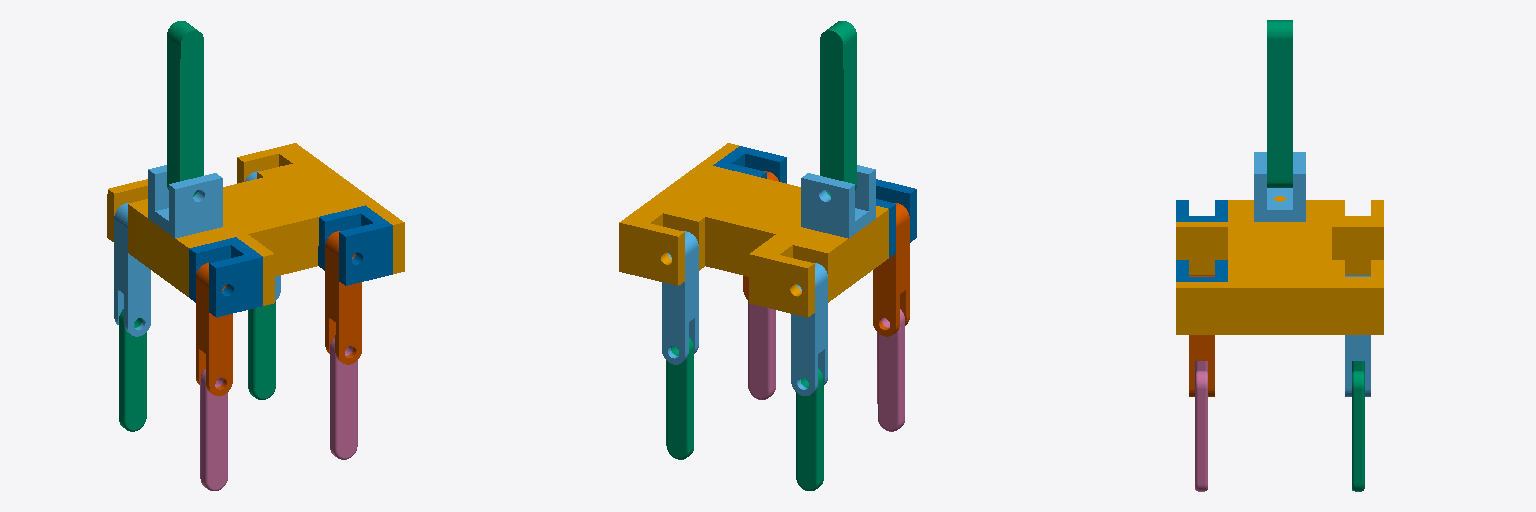
--- Facts derived from the render (not from the file) ---
Views: 3 orthographic renders of the robot side by side, from view 1: azimuth 30°, elevation 25°; view 2: azimuth 150°, elevation 25°; view 3: azimuth 270°, elevation 25°.
Robot: quadruped — 20 links, 19 joints (14 revolute, 5 fixed); root link body; default pose: all joints at 0.
Visible links, largest first — view 1: body, tail, coxa_br, coxa_fr, tailbase, femur_fr, femur_br, femur_bl, tibia_br, tibia_fr, tibia_bl, tibia_fl (+2 smaller); view 2: body, tail, coxa_bl, coxa_fl, tailbase, femur_fl, femur_bl, femur_br, tibia_bl, tibia_fl, tibia_br, tibia_fr (+2 smaller); view 3: body, tail, tailbase, tibia_fr, tibia_fl, femur_fr, femur_fl, coxa_br, coxa_bl, coxa_fr, coxa_fl.
Boxes of the visible links, box(x1,y1,x2,y2) form: body: box(135, 143, 404, 305); tail: box(167, 21, 203, 196); coxa_br: box(189, 237, 262, 317); coxa_fr: box(318, 205, 392, 285); tailbase: box(148, 165, 222, 238); femur_fr: box(325, 231, 361, 364); femur_br: box(196, 263, 232, 395); femur_bl: box(114, 203, 150, 336); tibia_br: box(200, 369, 227, 490); tibia_fr: box(330, 337, 357, 459); tibia_bl: box(119, 309, 146, 431); tibia_fl: box(248, 301, 275, 399); body: box(619, 143, 888, 305); tail: box(820, 21, 856, 196); coxa_bl: box(761, 237, 834, 317); coxa_fl: box(631, 206, 704, 285); tailbase: box(801, 165, 875, 238); femur_fl: box(662, 231, 698, 364); femur_bl: box(791, 263, 827, 395); femur_br: box(873, 203, 909, 336); tibia_bl: box(796, 368, 823, 490); tibia_fl: box(666, 337, 693, 459); tibia_br: box(877, 309, 904, 431); tibia_fr: box(748, 301, 775, 399); body: box(1176, 196, 1383, 334); tail: box(1267, 20, 1292, 187); tailbase: box(1254, 152, 1305, 221); tibia_fr: box(1195, 371, 1207, 491); tibia_fl: box(1352, 371, 1364, 491); femur_fr: box(1189, 276, 1214, 396); femur_fl: box(1345, 276, 1370, 396); coxa_br: box(1176, 200, 1227, 221); coxa_bl: box(1332, 200, 1383, 221); coxa_fr: box(1176, 260, 1227, 281); coxa_fl: box(1332, 260, 1383, 281).
Bounding box of the posed robot: 0.4067 × 0.4065 × 0.8889 m (x, y, z).
15 mesh visuals loaded from 6 distinct referenced files (6 Collada DAE).

robot.urdf — quadruped:
<robot name="quadruped">
    <!-- <link name="world" />
    <joint name="base_joint" type="fixed">
        <origin xyz="0 0 0.5" rpy="0 0 0" />
        <parent link="world" />
        <child link="body" />
    </joint> -->
    <!-- ================== Body and Tail Links ================== -->
    <link name="body">
        <visual>
            <geometry>
                <mesh filename="package://quadruped_description/meshes/body.dae" />
            </geometry>
        </visual>
        <collision>
            <geometry>
                <mesh filename="package://quadruped_description/meshes/body.dae" />
            </geometry>
        </collision>

        <inertial>
            <mass value="5.615" />
            <inertia ixx="0.1487" iyy="0.2852" izz="0.3610" ixy="0.0" ixz="-0.0140" iyz="0.0" />
        </inertial>

    </link>
    <link name="tailbase">
        <visual>
            <geometry>
                <mesh filename="package://quadruped_description/meshes/tailBase.dae" />
            </geometry>
        </visual>
        <inertial>
            <mass value="0.63" />
            <inertia ixx="0.0054" iyy="0.0059" izz="0.0032" ixy="0.0" ixz="0.0" iyz="0.0" />
        </inertial>

    </link>
    <link name="tail">
        <visual>
            <geometry>
                <mesh filename="package://quadruped_description/meshes/tail.dae" />
            </geometry>
        </visual>
        <inertial>
            <mass value="0.408" />
            <inertia ixx="0.0009" iyy="0.0713" izz="0.0713" ixy="0.0" ixz="0.0" iyz="0.0" />
        </inertial>

    </link>
    <link name="tailtip" />

    <!-- ================== Front-Right Leg Links ================== -->
    <link name="coxa_fr">
        <visual>
            <geometry>
                <mesh filename="package://quadruped_description/meshes/coxa.dae" />
            </geometry>
        </visual>
        <inertial>
            <mass value="0.63" />
            <inertia ixx="0.0054" iyy="0.0059" izz="0.0032" ixy="0.0" ixz="0.0" iyz="0.0" />
        </inertial>

    </link>
    <link name="femur_fr">
        <visual>
            <geometry>
                <mesh filename="package://quadruped_description/meshes/femur.dae" />
            </geometry>
        </visual>
        <inertial>
            <mass value="0.481" />
            <inertia ixx="0.0005" iyy="0.0134" izz="0.0134" ixy="0.0" ixz="0.0" iyz="0.0" />
        </inertial>

    </link>
    <link name="tibia_fr">
        <visual>
            <geometry>
                <mesh filename="package://quadruped_description/meshes/tibia.dae" />
            </geometry>
        </visual>
        <collision>
            <geometry>
                <mesh filename="package://quadruped_description/meshes/tibia.dae" />
            </geometry>
        </collision>

        <inertial>
            <mass value="0.29" />
            <inertia ixx="0.0002" iyy="0.0112" izz="0.0113" ixy="0.0" ixz="0.0" iyz="0.0" />
        </inertial>

    </link>
    <gazebo reference="tibia_fr">
        <kp>1000000.0</kp> <!--contact stiffness-->
        <kd>100.0</kd> <!--damping-->
        <collision name="tibia_fr_collision">
            <surface>
                <friction>
                    <ode>
                        <mu>1.0</mu>
                        <mu2>1.0</mu2>
                    </ode>
                </friction>
            </surface>
        </collision>

        <sensor name="tibia_fr_sensor" type="contact">
            <selfCollide>true</selfCollide>
            <alwaysOn>true</alwaysOn>
            <updateRate>15.0</updateRate>
            <contact>
                <collision>tibia_fr_collision</collision>
            </contact>
            <plugin name="gazebo_ros_bumper_controller" filename="libgazebo_ros_bumper.so">   
                <bumperTopicName>tibia_fr_bumper</bumperTopicName>
                <frameName>world</frameName>
            </plugin>
        </sensor>
    </gazebo>

    <link name="foot_fr" />

    <!-- ================== Front-Left Leg Links ================== -->
    <link name="coxa_fl">
        <visual>
            <geometry>
                <mesh filename="package://quadruped_description/meshes/coxa.dae" />
            </geometry>
        </visual>
        <inertial>
            <mass value="0.63" />
            <inertia ixx="0.0054" iyy="0.0059" izz="0.0032" ixy="0.0" ixz="0.0" iyz="0.0" />
        </inertial>

    </link>
    <link name="femur_fl">
        <visual>
            <geometry>
                <mesh filename="package://quadruped_description/meshes/femur.dae" />
            </geometry>
        </visual>
        <inertial>
            <mass value="0.481" />
            <inertia ixx="0.0005" iyy="0.0134" izz="0.0134" ixy="0.0" ixz="0.0" iyz="0.0" />
        </inertial>

    </link>
    <link name="tibia_fl">
        <visual>
            <geometry>
                <mesh filename="package://quadruped_description/meshes/tibia.dae" />
            </geometry>
        </visual>
        <collision>
            <geometry>
                <mesh filename="package://quadruped_description/meshes/tibia.dae" />
            </geometry>
        </collision>
        <inertial>
            <mass value="0.29" />
            <inertia ixx="0.0002" iyy="0.0112" izz="0.0113" ixy="0.0" ixz="0.0" iyz="0.0" />
        </inertial>
    </link>
    <gazebo reference="tibia_fl">
        <kp>1000000.0</kp> <!--contact stiffness-->
        <kd>100.0</kd> <!--damping-->
        <collision name="tibia_fl_collision">
            <surface>
                <friction>
                    <ode>
                        <mu>1.0</mu>
                        <mu2>1.0</mu2>
                    </ode>
                </friction>
            </surface>
        </collision>

        <sensor name="tibia_fl_sensor" type="contact">
            <selfCollide>true</selfCollide>
            <alwaysOn>true</alwaysOn>
            <updateRate>15.0</updateRate>
            <contact>
                <collision>tibia_fl_collision</collision>
            </contact>
            <plugin name="gazebo_ros_bumper_controller" filename="libgazebo_ros_bumper.so">   
                <bumperTopicName>tibia_fl_bumper</bumperTopicName>
                <frameName>world</frameName>
            </plugin>
        </sensor>
    </gazebo>
    <link name="foot_fl">
        <inertial>
            <mass value="0.29" />
            <inertia ixx="0.0002" iyy="0.0112" izz="0.0113" ixy="0.0" ixz="0.0" iyz="0.0" />
        </inertial>
    </link>

    <!-- ================== Rear-Right Leg Links ================== -->
    <link name="coxa_br">
        <visual>
            <geometry>
                <mesh filename="package://quadruped_description/meshes/coxa.dae" />
            </geometry>
        </visual>
        <inertial>
            <mass value="0.63" />
            <inertia ixx="0.0054" iyy="0.0059" izz="0.0032" ixy="0.0" ixz="0.0" iyz="0.0" />
        </inertial>

    </link>
    <link name="femur_br">
        <visual>
            <geometry>
                <mesh filename="package://quadruped_description/meshes/femur.dae" />
            </geometry>
        </visual>
        <inertial>
            <mass value="0.481" />
            <inertia ixx="0.0005" iyy="0.0134" izz="0.0134" ixy="0.0" ixz="0.0" iyz="0.0" />
        </inertial>

    </link>
    <link name="tibia_br">
        <visual>
            <geometry>
                <mesh filename="package://quadruped_description/meshes/tibia.dae" />
            </geometry>
        </visual>
        <collision>
            <geometry>
                <mesh filename="package://quadruped_description/meshes/tibia.dae" />
            </geometry>
        </collision>
        <inertial>
            <mass value="0.29" />
            <inertia ixx="0.0002" iyy="0.0112" izz="0.0113" ixy="0.0" ixz="0.0" iyz="0.0" />
        </inertial>
    </link>
    <gazebo reference="tibia_br">
        <kp>1000000.0</kp> <!--contact stiffness-->
        <kd>100.0</kd> <!--damping-->
        <collision name="tibia_br_collision">
            <surface>
                <friction>
                    <ode>
                        <mu>1.0</mu>
                        <mu2>1.0</mu2>
                    </ode>
                </friction>
            </surface>
        </collision>

        <sensor name="tibia_br_sensor" type="contact">
            <selfCollide>true</selfCollide>
            <alwaysOn>true</alwaysOn>
            <updateRate>15.0</updateRate>
            <contact>
                <collision>tibia_br_collision</collision>
            </contact>
            <plugin name="gazebo_ros_bumper_controller" filename="libgazebo_ros_bumper.so">   
                <bumperTopicName>tibia_br_bumper</bumperTopicName>
                <frameName>world</frameName>
            </plugin>
        </sensor>
    </gazebo>
    <link name="foot_br">
        <visual>
            <geometry>
                <sphere radius="0.001"/>
            </geometry>
        </visual>
        <inertial>
            <mass value="0.0001" />
            <inertia ixx="0.00001" iyy="0.00001" izz="0.00001" ixy="0.0" ixz="0.0" iyz="0.0" />
        </inertial>
    </link>

    <!-- ================== Rear-Left Leg Links ================== -->
    <link name="coxa_bl">
        <visual>
            <geometry>
                <mesh filename="package://quadruped_description/meshes/coxa.dae" />
            </geometry>
        </visual>
        <inertial>
            <mass value="0.63" />
            <inertia ixx="0.0054" iyy="0.0059" izz="0.0032" ixy="0.0" ixz="0.0" iyz="0.0" />
        </inertial>

    </link>
    <link name="femur_bl">
        <visual>
            <geometry>
                <mesh filename="package://quadruped_description/meshes/femur.dae" />
            </geometry>
        </visual>
        <inertial>
            <mass value="0.481" />
            <inertia ixx="0.0005" iyy="0.0134" izz="0.0134" ixy="0.0" ixz="0.0" iyz="0.0" />
        </inertial>

    </link>
    <link name="tibia_bl">
        <visual>
            <geometry>
                <mesh filename="package://quadruped_description/meshes/tibia.dae" />
            </geometry>
        </visual>
        <collision>
            <geometry>
                <mesh filename="package://quadruped_description/meshes/tibia.dae" />
            </geometry>
        </collision>
        <inertial>
            <mass value="0.29" />
            <inertia ixx="0.0002" iyy="0.0112" izz="0.0113" ixy="0.0" ixz="0.0" iyz="0.0" />
        </inertial>
    </link>
    <gazebo reference="tibia_bl">
        <kp>1000000.0</kp> <!--contact stiffness-->
        <kd>100.0</kd> <!--damping-->
        <collision name="tibia_bl_collision">
            <surface>
                <friction>
                    <ode>
                        <mu>1.0</mu>
                        <mu2>1.0</mu2>
                    </ode>
                </friction>
            </surface>
        </collision>

        <sensor name="tibia_bl_sensor" type="contact">
            <selfCollide>true</selfCollide>
            <alwaysOn>true</alwaysOn>
            <updateRate>15.0</updateRate>
            <contact>
                <collision>tibia_bl_collision</collision>
            </contact>
            <plugin name="gazebo_ros_bumper_controller" filename="libgazebo_ros_bumper.so">   
                <bumperTopicName>tibia_bl_bumper</bumperTopicName>
                <frameName>world</frameName>
            </plugin>
        </sensor>
    </gazebo>

    <link name="foot_bl" />

    <!-- ================== Tail Joints ================== -->
    <joint name="joint_tail_yaw" type="revolute">
        <origin xyz="-0.1524 0 0.0508" rpy="0 0 0 " />
        <limit lower="-3" upper="3" effort="30.0" velocity="6" />
        <parent link="body" />
        <child link="tailbase" />
        <axis xyz="0 0 1" />
        <safety_controller k_position="100.0" k_velocity="40.0" soft_lower_limit="-3" soft_upper_limit="3" />
    </joint>
    <joint name="joint_tail_pitch" type="revolute">
        <origin xyz="0 0 0.0762" rpy="1.57 -1.57 0" />
        <limit lower="-3" upper="3" effort="30.0" velocity="6" />
        <parent link="tailbase" />
        <child link="tail" />
        <axis xyz="0 0 1" />
        <safety_controller k_position="100.0" k_velocity="40.0" soft_lower_limit="-3" soft_upper_limit="3" />
    </joint>
    <joint name="joint_tailtip" type="fixed">
        <origin xyz="0.2032 0 0" rpy="0 0 0 " />
        <parent link="tail" />
        <child link="tailtip" />
    </joint>

    <!-- ================== Front-Right Leg Joints ================== -->
    <joint name="joint_hip_fr" type="revolute">
        <origin xyz="0.1778 -0.1524 0" rpy="1.57 0 -1.57" />
        <limit lower="-3" upper="3" effort="30.0" velocity="6" />
        <parent link="body" />
        <child link="coxa_fr" />
        <axis xyz="0 0 1" />
        <safety_controller k_position="100.0" k_velocity="40.0" soft_lower_limit="-3" soft_upper_limit="3" />
    </joint>
    <joint name="joint_knee_fr" type="revolute">
        <origin xyz="0 0 0.0762" rpy="1.57 0 -1.57"/>
        <limit lower="-3" upper="3" effort="30.0" velocity="6" />
        <parent link="coxa_fr" />
        <child link="femur_fr" />
        <axis xyz="0 0 1" />
        <safety_controller k_position="100.0" k_velocity="40.0" soft_lower_limit="-3" soft_upper_limit="3" />
    </joint>
    <joint name="joint_ankle_fr" type="revolute">
        <origin xyz="0.2032 0 0" rpy="0 0 0 " />
        <limit lower="-3" upper="3" effort="30.0" velocity="6" />
        <parent link="femur_fr" />
        <child link="tibia_fr" />
        <axis xyz="0 0 1" />
        <safety_controller k_position="100.0" k_velocity="40.0" soft_lower_limit="-3" soft_upper_limit="3" />
    </joint>
    <joint name="joint_foot_fr" type="fixed">
        <origin xyz="0.2032 0 0" rpy="0 0 0 " />
        <parent link="tibia_fr" />
        <child link="foot_fr" />
    </joint>

    <!-- ================== Front-Left Leg Joints ================== -->
    <joint name="joint_hip_fl" type="revolute">
        <origin xyz="0.1778 0.1524 0" rpy="1.57 0 -1.57" />
        <limit lower="-3" upper="3" effort="30.0" velocity="6" />
        <parent link="body" />
        <child link="coxa_fl" />
        <axis xyz="0 0 1" />
        <safety_controller k_position="100.0" k_velocity="40.0" soft_lower_limit="-3" soft_upper_limit="3" />
    </joint>
    <joint name="joint_knee_fl" type="revolute">
        <origin xyz="0 0 0.0762" rpy="1.57 0 -1.57"/>
        <limit lower="-3" upper="3" effort="30.0" velocity="6" />
        <parent link="coxa_fl" />
        <child link="femur_fl" />
        <axis xyz="0 0 1" />
        <safety_controller k_position="100.0" k_velocity="40.0" soft_lower_limit="-3" soft_upper_limit="3" />
    </joint>
    <joint name="joint_ankle_fl" type="revolute">
        <origin xyz="0.2032 0 0" rpy="0 0 0 " />
        <limit lower="-3" upper="3" effort="30.0" velocity="6" />
        <parent link="femur_fl" />
        <child link="tibia_fl" />
        <axis xyz="0 0 1" />
        <safety_controller k_position="100.0" k_velocity="40.0" soft_lower_limit="-3" soft_upper_limit="3" />
    </joint>
    <joint name="joint_foot_fl" type="fixed">
        <origin xyz="0.2032 0 0" rpy="0 0 0 " />
        <parent link="tibia_fl" />
        <child link="foot_fl" />
    </joint>
    <gazebo reference="joint_foot_fl">
        <disableFixedJointLumping>true</disableFixedJointLumping>
    </gazebo>

    <!-- ================== Rear-Right Leg Joints ================== -->
    <joint name="joint_hip_br" type="revolute">
        <origin xyz="-0.1016 -0.1524 0" rpy="1.57 0 -1.57" />
        <limit lower="-3" upper="3" effort="30.0" velocity="6" />
        <parent link="body" />
        <child link="coxa_br" />
        <axis xyz="0 0 1" />
        <safety_controller k_position="100.0" k_velocity="40.0" soft_lower_limit="-3" soft_upper_limit="3" />
    </joint>
    <joint name="joint_knee_br" type="revolute">
        <origin xyz="0 0 0.0762" rpy="1.57 0 -1.57"/>
        <limit lower="-3" upper="3" effort="30.0" velocity="6" />
        <parent link="coxa_br" />
        <child link="femur_br" />
        <axis xyz="0 0 1" />
        <safety_controller k_position="100.0" k_velocity="40.0" soft_lower_limit="-3" soft_upper_limit="3" />
    </joint>
    <joint name="joint_ankle_br" type="revolute">
        <origin xyz="0.2032 0 0" rpy="0 0 0 " />
        <limit lower="-3" upper="3" effort="30.0" velocity="6" />
        <parent link="femur_br" />
        <child link="tibia_br" />
        <axis xyz="0 0 1" />
        <safety_controller k_position="100.0" k_velocity="40.0" soft_lower_limit="-3" soft_upper_limit="3" />
    </joint>
    <joint name="joint_foot_br" type="fixed">
        <origin xyz="0.2032 0 0" rpy="0 0 0 " />
        <parent link="tibia_br" />
        <child link="foot_br" />
    </joint>


    <!-- ================== Rear-Left Leg Joints ================== -->
    <joint name="joint_hip_bl" type="revolute">
        <origin xyz="-0.1016 0.1524 0" rpy="1.57 0 -1.57" />
        <limit lower="-3" upper="3" effort="30.0" velocity="6" />
        <parent link="body" />
        <child link="coxa_bl" />
        <axis xyz="0 0 1" />
        <safety_controller k_position="100.0" k_velocity="40.0" soft_lower_limit="-3" soft_upper_limit="3" />
    </joint>
    <joint name="joint_knee_bl" type="revolute">
        <origin xyz="0 0 0.0762" rpy="1.57 0 -1.57"/>
        <limit lower="-3" upper="3" effort="30.0" velocity="6" />
        <parent link="coxa_bl" />
        <child link="femur_bl" />
        <axis xyz="0 0 1" />
        <safety_controller k_position="100.0" k_velocity="40.0" soft_lower_limit="-3" soft_upper_limit="3" />
    </joint>
    <joint name="joint_ankle_bl" type="revolute">
        <origin xyz="0.2032 0 0" rpy="0 0 0 " />
        <limit lower="-3" upper="3" effort="30.0" velocity="6" />
        <parent link="femur_bl" />
        <child link="tibia_bl" />
        <axis xyz="0 0 1" />
        <safety_controller k_position="100.0" k_velocity="40.0" soft_lower_limit="-3" soft_upper_limit="3" />
    </joint>
    <joint name="joint_foot_bl" type="fixed">
        <origin xyz="0.2032 0 0" rpy="0 0 0 " />
        <parent link="tibia_bl" />
        <child link="foot_bl" />
    </joint>

    <!-- ================== Transmission ================== -->
    <transmission name="trans_joint_tail_yaw">
        <type>transmission_interface/SimpleTransmission</type>
        <joint name="joint_tail_yaw">
            <hardwareInterface>hardware_interface/EffortJointInterface</hardwareInterface>
        </joint>
        <actuator name="joint_tail_yaw_motor">
            <hardwareInterface>hardware_interface/EffortJointInterface</hardwareInterface>
            <mechanicalReduction>1</mechanicalReduction>
        </actuator>
    </transmission>
    <transmission name="trans_joint_tail_pitch">
        <type>transmission_interface/SimpleTransmission</type>
        <joint name="joint_tail_pitch">
            <hardwareInterface>hardware_interface/EffortJointInterface</hardwareInterface>
        </joint>
        <actuator name="joint_tail_pitch_motor">
            <hardwareInterface>hardware_interface/EffortJointInterface</hardwareInterface>
            <mechanicalReduction>1</mechanicalReduction>
        </actuator>
    </transmission>

    <transmission name="trans_joint_hip_fl">
        <type>transmission_interface/SimpleTransmission</type>
        <joint name="joint_hip_fl">
            <hardwareInterface>hardware_interface/EffortJointInterface</hardwareInterface>
        </joint>
        <actuator name="joint_hip_fl_motor">
            <hardwareInterface>hardware_interface/EffortJointInterface</hardwareInterface>
            <mechanicalReduction>1</mechanicalReduction>
        </actuator>
    </transmission>
    <transmission name="trans_joint_knee_fl">
        <type>transmission_interface/SimpleTransmission</type>
        <joint name="joint_knee_fl">
            <hardwareInterface>hardware_interface/EffortJointInterface</hardwareInterface>
        </joint>
        <actuator name="joint_knee_fl_motor">
            <hardwareInterface>hardware_interface/EffortJointInterface</hardwareInterface>
            <mechanicalReduction>1</mechanicalReduction>
        </actuator>
    </transmission>
    <transmission name="trans_joint_ankle_fl">
        <type>transmission_interface/SimpleTransmission</type>
        <joint name="joint_ankle_fl">
            <hardwareInterface>hardware_interface/EffortJointInterface</hardwareInterface>
        </joint>
        <actuator name="joint_ankle_fl_motor">
            <hardwareInterface>hardware_interface/EffortJointInterface</hardwareInterface>
            <mechanicalReduction>1</mechanicalReduction>
        </actuator>
    </transmission>

    <transmission name="trans_joint_hip_fr">
        <type>transmission_interface/SimpleTransmission</type>
        <joint name="joint_hip_fr">
            <hardwareInterface>hardware_interface/EffortJointInterface</hardwareInterface>
        </joint>
        <actuator name="joint_hip_fr_motor">
            <hardwareInterface>hardware_interface/EffortJointInterface</hardwareInterface>
            <mechanicalReduction>1</mechanicalReduction>
        </actuator>
    </transmission>
    <transmission name="trans_joint_knee_fr">
        <type>transmission_interface/SimpleTransmission</type>
        <joint name="joint_knee_fr">
            <hardwareInterface>hardware_interface/EffortJointInterface</hardwareInterface>
        </joint>
        <actuator name="joint_knee_fr_motor">
            <hardwareInterface>hardware_interface/EffortJointInterface</hardwareInterface>
            <mechanicalReduction>1</mechanicalReduction>
        </actuator>
    </transmission>
    <transmission name="trans_joint_ankle_fr">
        <type>transmission_interface/SimpleTransmission</type>
        <joint name="joint_ankle_fr">
            <hardwareInterface>hardware_interface/EffortJointInterface</hardwareInterface>
        </joint>
        <actuator name="joint_ankle_fr_motor">
            <hardwareInterface>hardware_interface/EffortJointInterface</hardwareInterface>
            <mechanicalReduction>1</mechanicalReduction>
        </actuator>
    </transmission>

    <transmission name="trans_joint_hip_bl">
        <type>transmission_interface/SimpleTransmission</type>
        <joint name="joint_hip_bl">
            <hardwareInterface>hardware_interface/EffortJointInterface</hardwareInterface>
        </joint>
        <actuator name="joint_hip_bl_motor">
            <hardwareInterface>hardware_interface/EffortJointInterface</hardwareInterface>
            <mechanicalReduction>1</mechanicalReduction>
        </actuator>
    </transmission>
    <transmission name="trans_joint_knee_bl">
        <type>transmission_interface/SimpleTransmission</type>
        <joint name="joint_knee_bl">
            <hardwareInterface>hardware_interface/EffortJointInterface</hardwareInterface>
        </joint>
        <actuator name="joint_knee_bl_motor">
            <hardwareInterface>hardware_interface/EffortJointInterface</hardwareInterface>
            <mechanicalReduction>1</mechanicalReduction>
        </actuator>
    </transmission>
    <transmission name="trans_joint_ankle_bl">
        <type>transmission_interface/SimpleTransmission</type>
        <joint name="joint_ankle_bl">
            <hardwareInterface>hardware_interface/EffortJointInterface</hardwareInterface>
        </joint>
        <actuator name="joint_ankle_bl_motor">
            <hardwareInterface>hardware_interface/EffortJointInterface</hardwareInterface>
            <mechanicalReduction>1</mechanicalReduction>
        </actuator>
    </transmission>

    <transmission name="trans_joint_hip_br">
        <type>transmission_interface/SimpleTransmission</type>
        <joint name="joint_hip_br">
            <hardwareInterface>hardware_interface/EffortJointInterface</hardwareInterface>
        </joint>
        <actuator name="joint_hip_br_motor">
            <hardwareInterface>hardware_interface/EffortJointInterface</hardwareInterface>
            <mechanicalReduction>1</mechanicalReduction>
        </actuator>
    </transmission>
    <transmission name="trans_joint_knee_br">
        <type>transmission_interface/SimpleTransmission</type>
        <joint name="joint_knee_br">
            <hardwareInterface>hardware_interface/EffortJointInterface</hardwareInterface>
        </joint>
        <actuator name="joint_knee_br_motor">
            <hardwareInterface>hardware_interface/EffortJointInterface</hardwareInterface>
            <mechanicalReduction>1</mechanicalReduction>
        </actuator>
    </transmission>
    <transmission name="trans_joint_ankle_br">
        <type>transmission_interface/SimpleTransmission</type>
        <joint name="joint_ankle_br">
            <hardwareInterface>hardware_interface/EffortJointInterface</hardwareInterface>
        </joint>
        <actuator name="joint_ankle_br_motor">
            <hardwareInterface>hardware_interface/EffortJointInterface</hardwareInterface>
            <mechanicalReduction>1</mechanicalReduction>
        </actuator>
    </transmission>

    <gazebo>
        <plugin name="gazebo_ros_control" filename="libgazebo_ros_control.so">
            <robotNamespace>/quadruped</robotNamespace>
        </plugin>
    </gazebo>
</robot>
